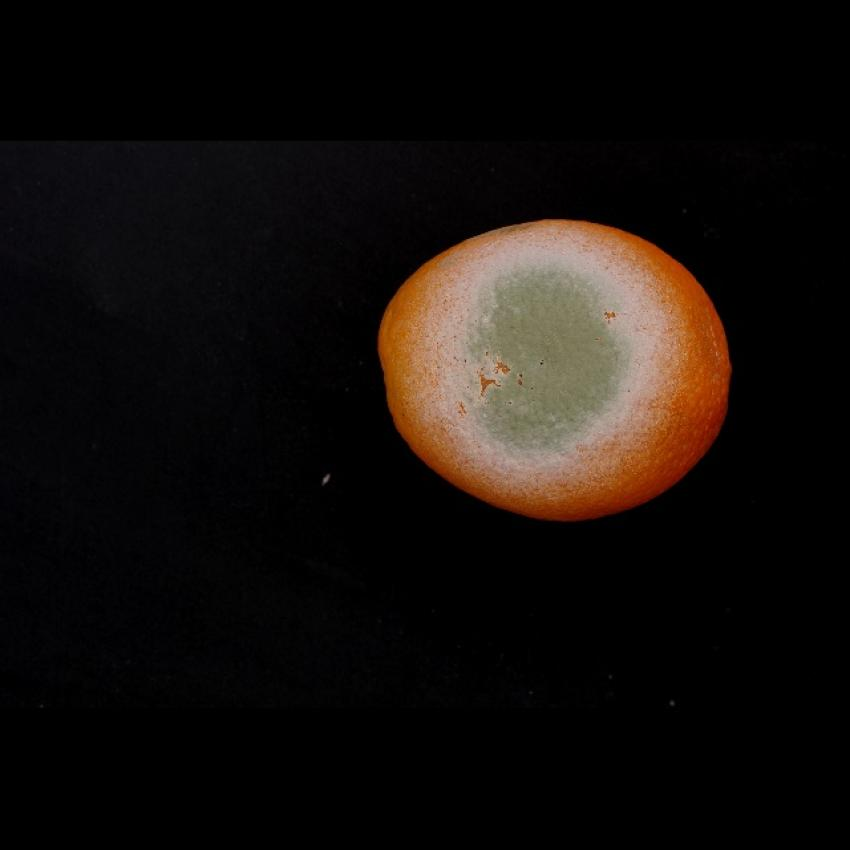Mal estado: (367, 211, 735, 530)
